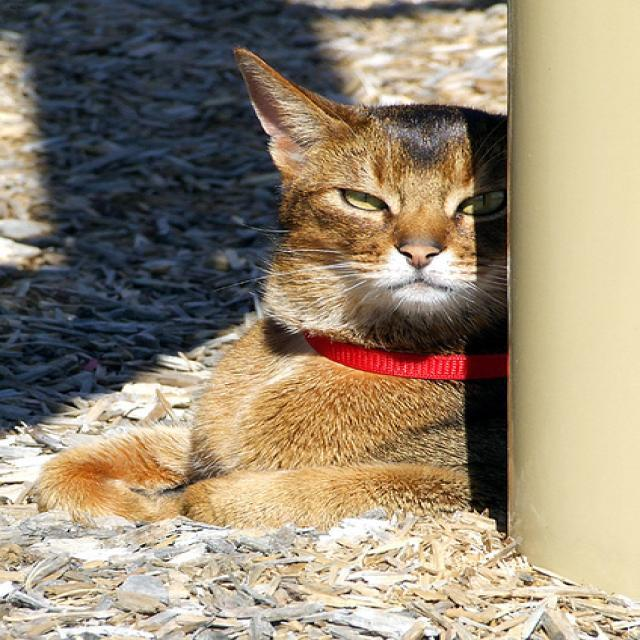Abyssinian: (231, 48, 506, 304)
